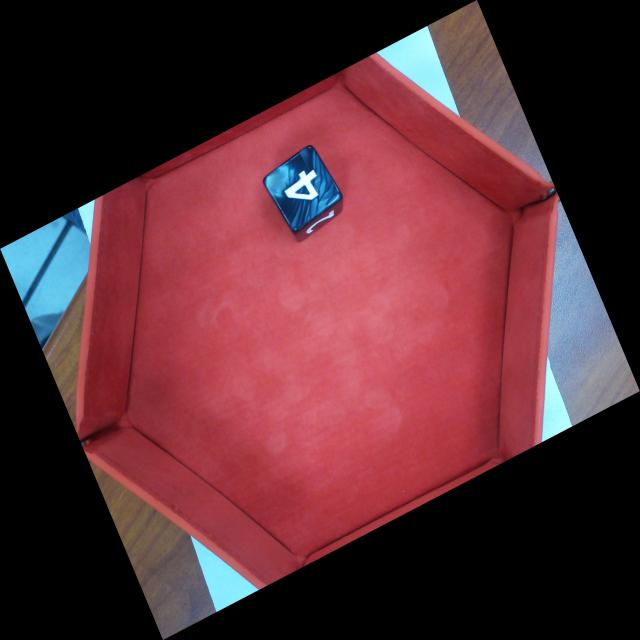dice: (263, 152, 343, 230)
